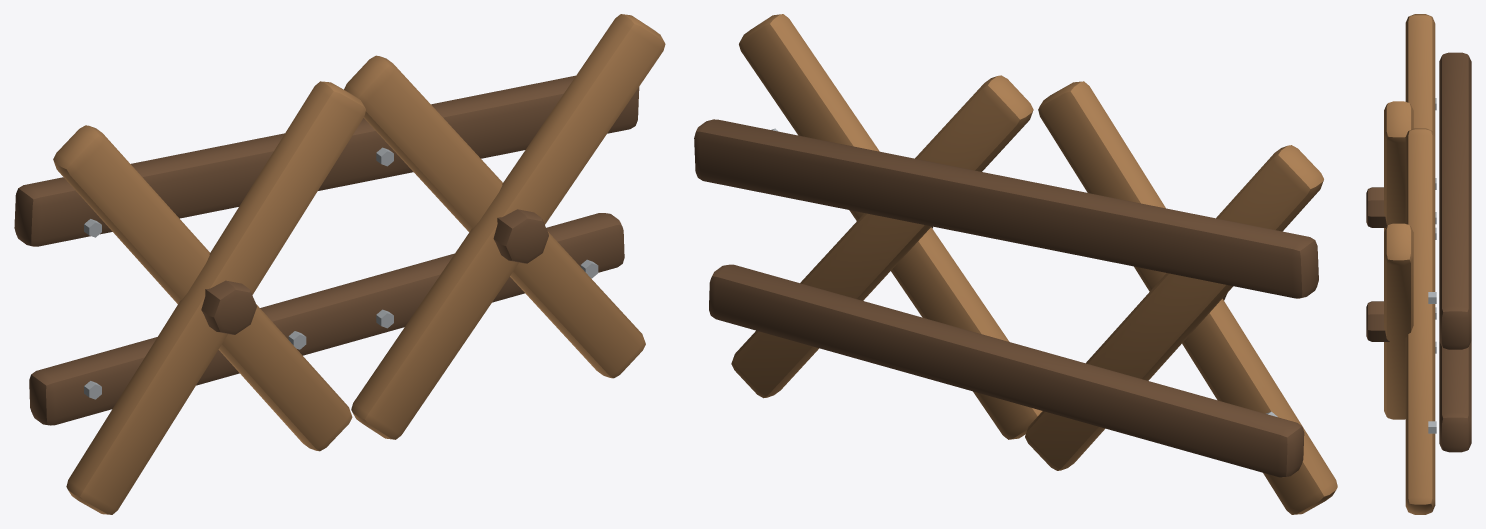
The model's file is Fence.fbx.
3 renders of one model, left to right at view 1: azimuth 30°, elevation 25°; view 2: azimuth 150°, elevation 25°; view 3: azimuth 270°, elevation 25°, orthographic. The views are drawn at different scales.
Parts seen in each view (by area): view 1: Fence; view 2: Fence; view 3: Fence.
Boxes of the visible parts, x1,y1,x2,y2 form: Fence: [14, 14, 665, 514]; Fence: [694, 14, 1337, 514]; Fence: [1366, 14, 1471, 514].
Size of the model in its own units: 2.1 by 1.22 by 0.39.
